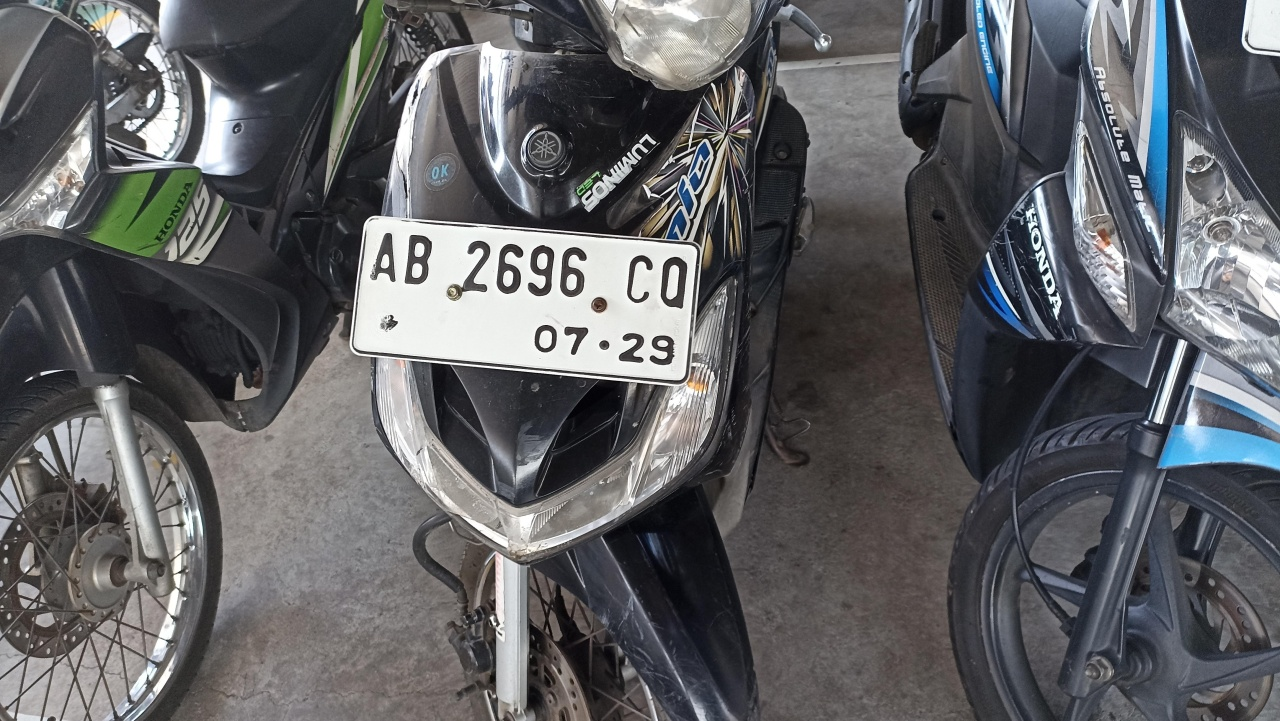plate: (348, 215, 702, 387)
